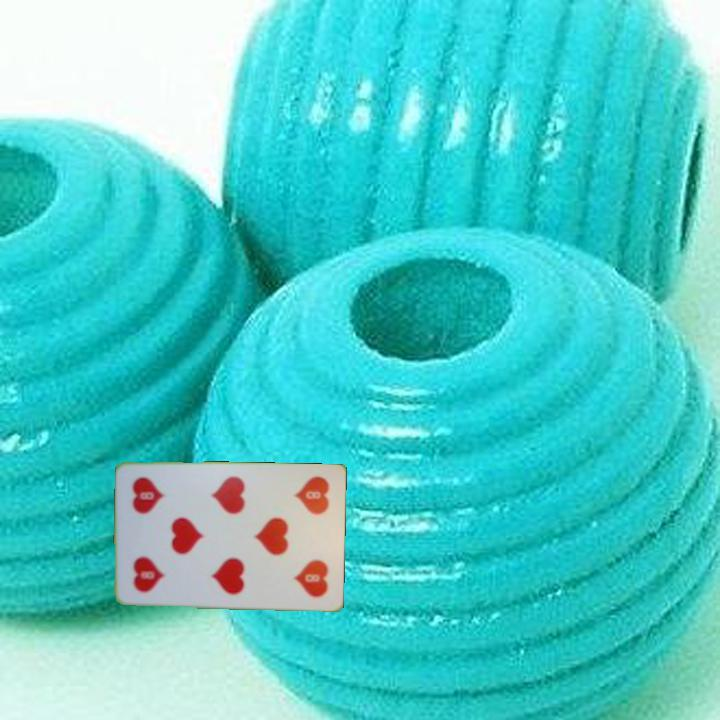h_8.png: (277, 472, 336, 541), (122, 530, 181, 598)
